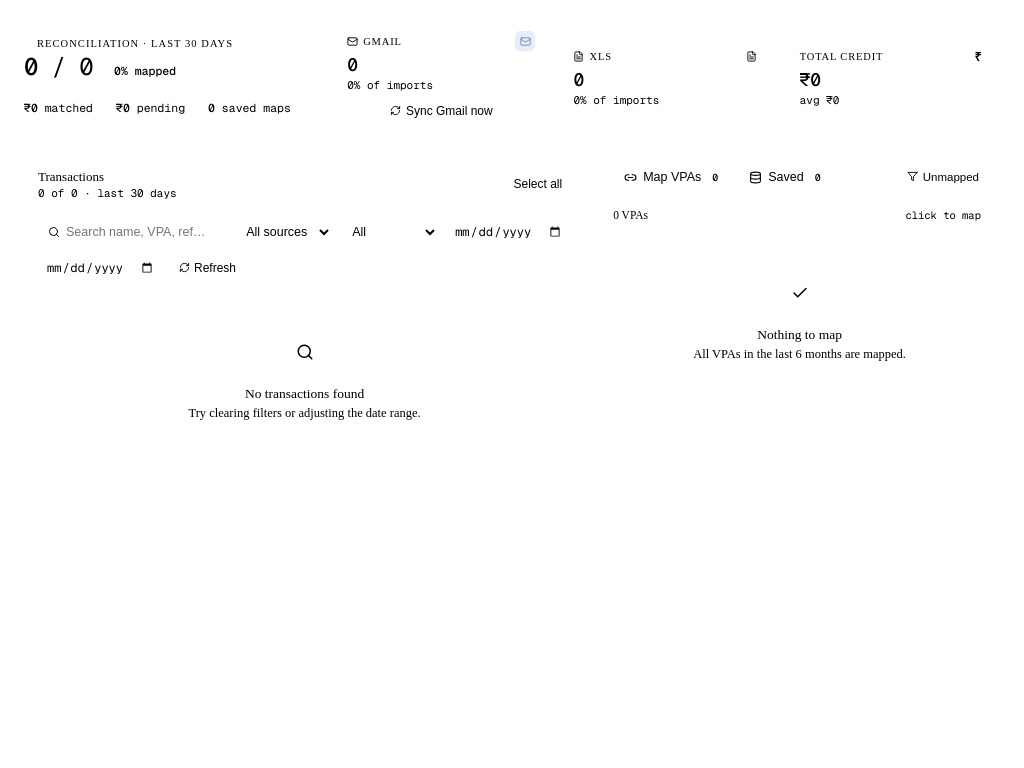
Sync Gmail now on the UPI page (MN-06) › pulls the latest credits from Gmail, refreshes the list and says how many were new
The image size is (1024, 768).
Click the button with test id "sync-gmail" at (441, 111), box [347, 100, 536, 122]
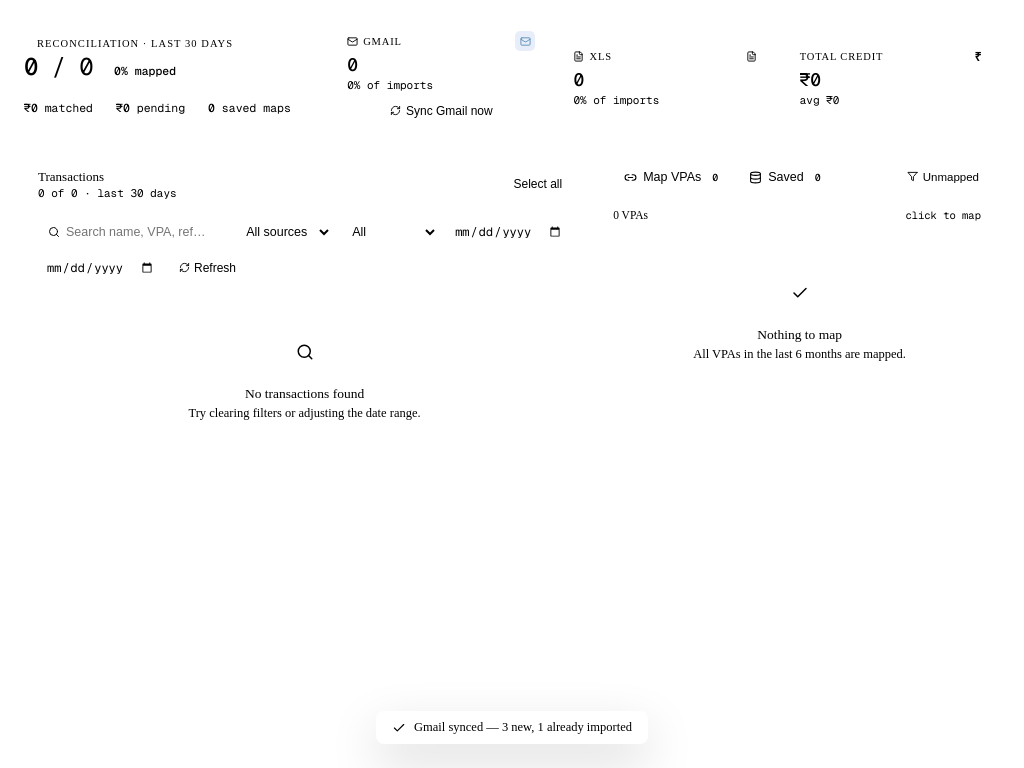
Expected: the text "Gmail synced — 3 new, 1 already imported" is shown, [376, 711, 648, 744]
